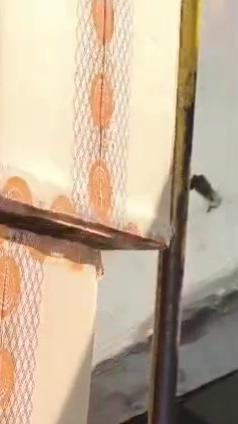box: (0, 230, 98, 423)
